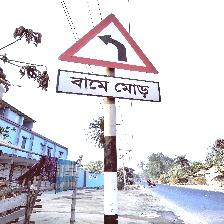Left-Turn: (57, 13, 161, 104)
